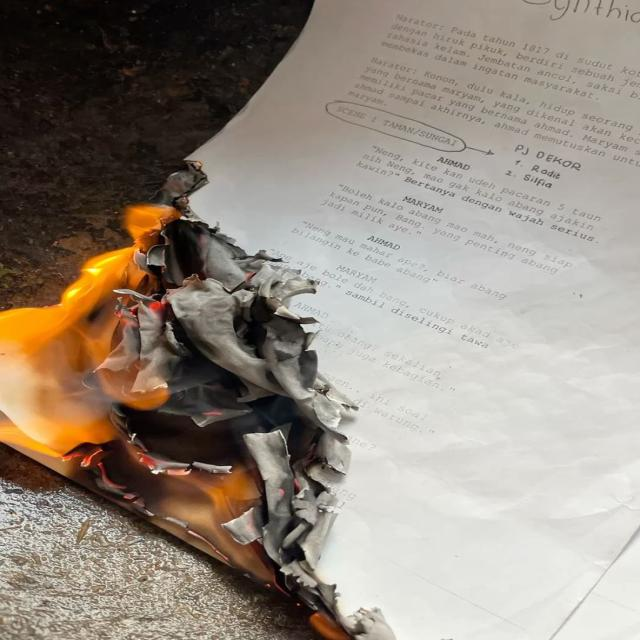fire: (0, 204, 180, 455)
